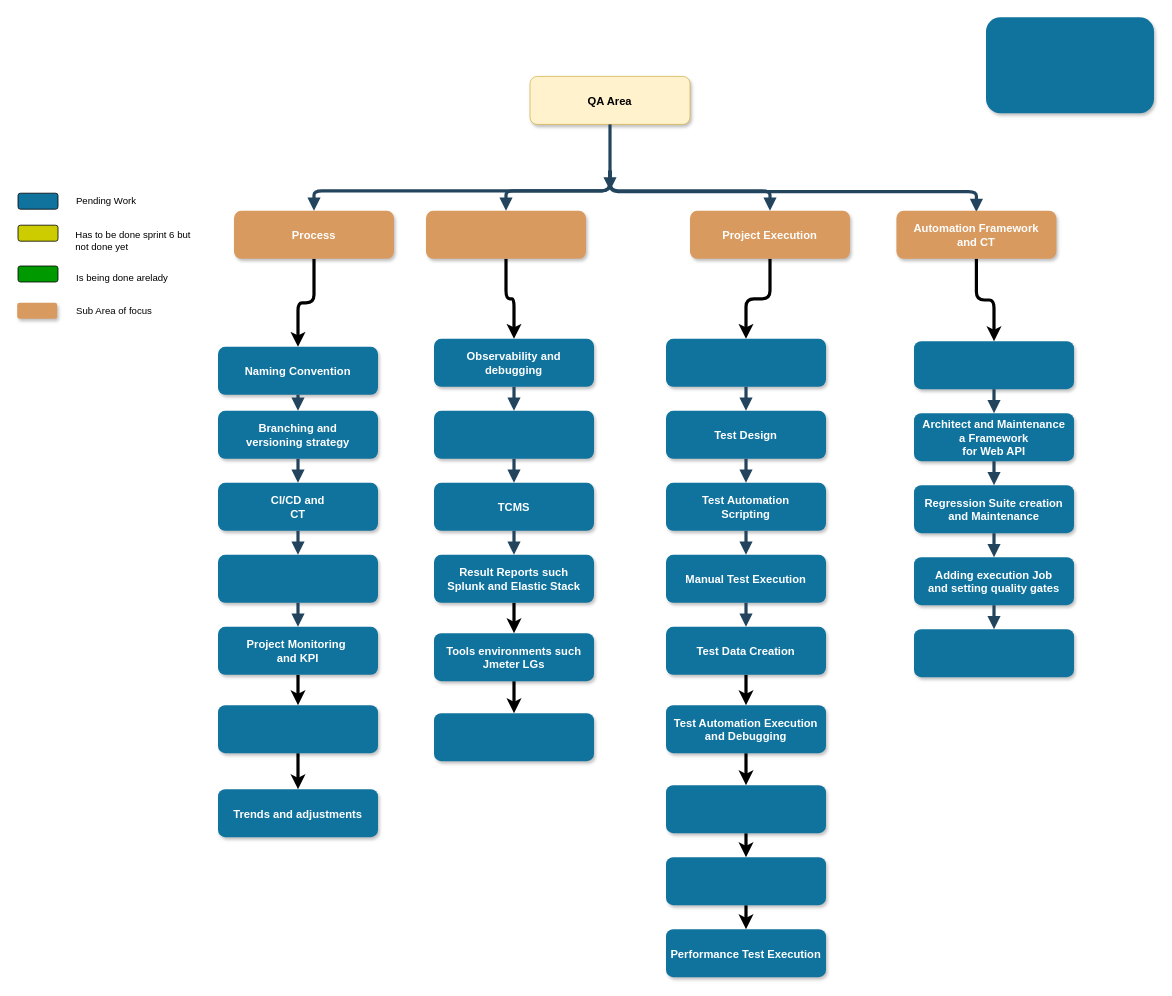
The diagram is 1172 pixels wide and 996 high, and some of its shapes have lost their labels. Here are the shapes that lost their labels. From the top down, the centre of each, then its label:
At point 1070,66: "Dev/QA Ratio 7/1- current 2/1 - healthy 3/1 - recommended".
At point 506,235: "Infrastructure and Tools".
At point 746,363: "Planning per Feature or sprint objective".
At point 994,366: "Architect and Maintenance a Framework for Web UI".
At point 514,435: "Automation Runners".
At point 298,579: "Planning and test artifacts".
At point 994,654: "Incorporate Jobs into different QA Pipelines".
At point 298,730: "Quality Gates set and updates".
At point 514,738: "Continuous Feedback Using ML".
At point 746,810: "Per Sprint Reporting".
At point 746,882: "Performance Test Scripting".
